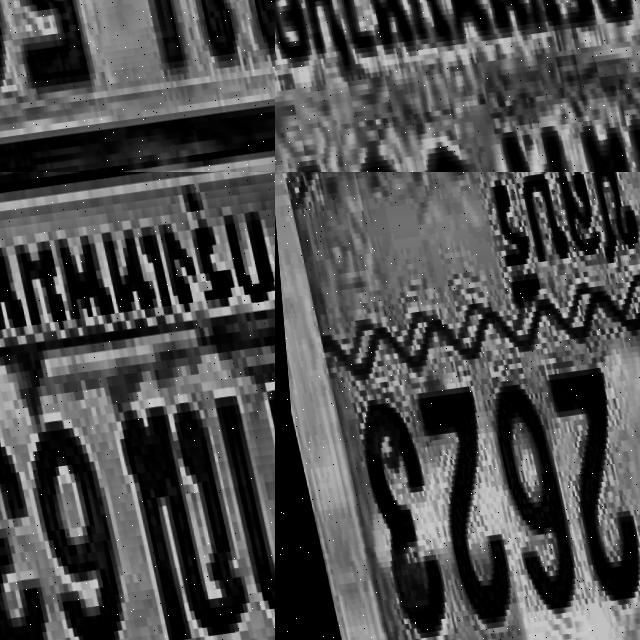license-plate: (275, 172, 640, 640), (0, 172, 275, 640), (275, 0, 640, 172), (0, 0, 275, 172)
